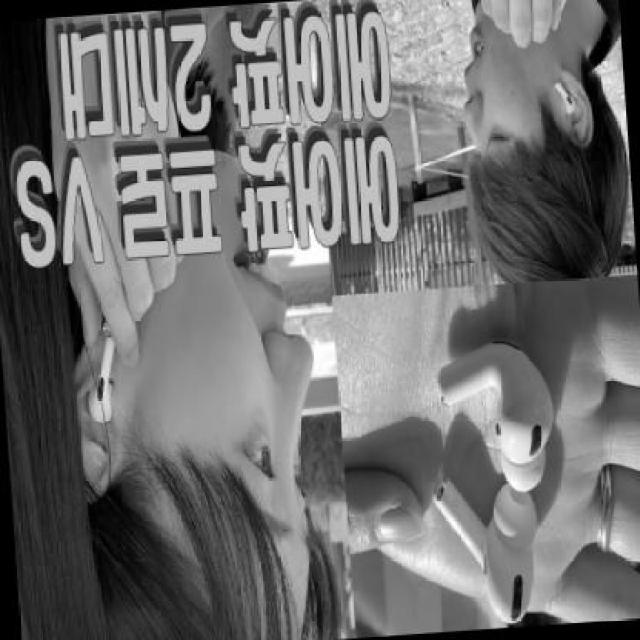earphone: (430, 468, 564, 638), (432, 332, 554, 488), (76, 318, 135, 434), (551, 75, 586, 132)
